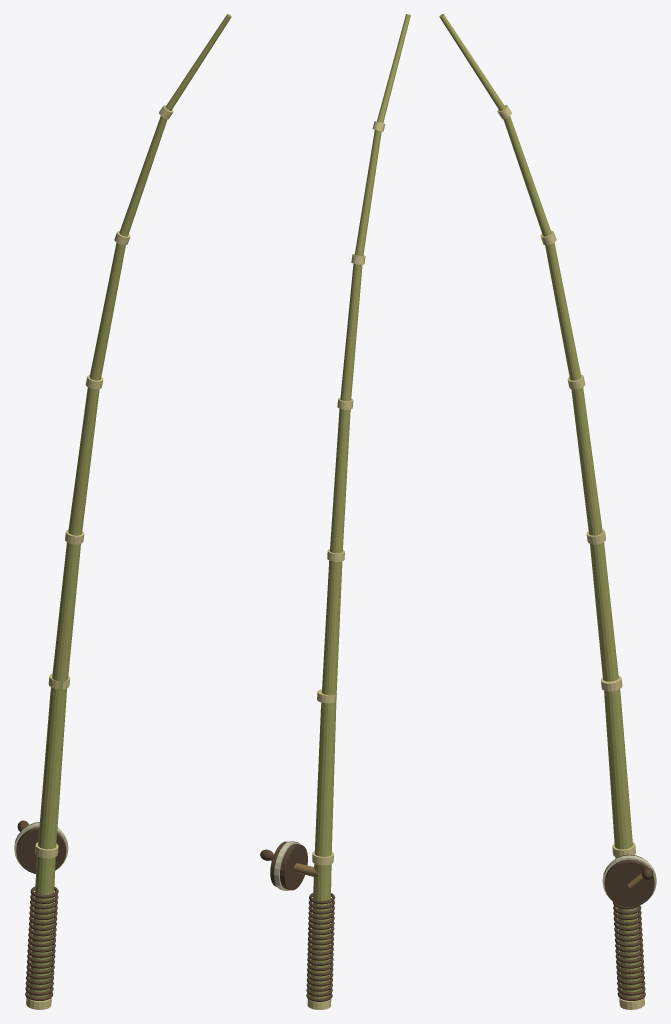
Rendered from BambooRodReelOpposite.fbx.
The picture shows the model from 3 angles, left to right: view 1: azimuth 90°, elevation 25°; view 2: azimuth 150°, elevation 25°; view 3: azimuth 270°, elevation 25°; orthographic projection. The views are drawn at different scales.
Parts seen in each view (by area): view 1: BambooRod; view 2: BambooRod; view 3: BambooRod.
Boxes of the visible parts, x1,y1,x2,y2 form: BambooRod: (14, 14, 231, 1009); BambooRod: (270, 14, 410, 1009); BambooRod: (439, 14, 656, 1009).
Size of the model in its own units: 0.176 by 2.48 by 0.4931.
